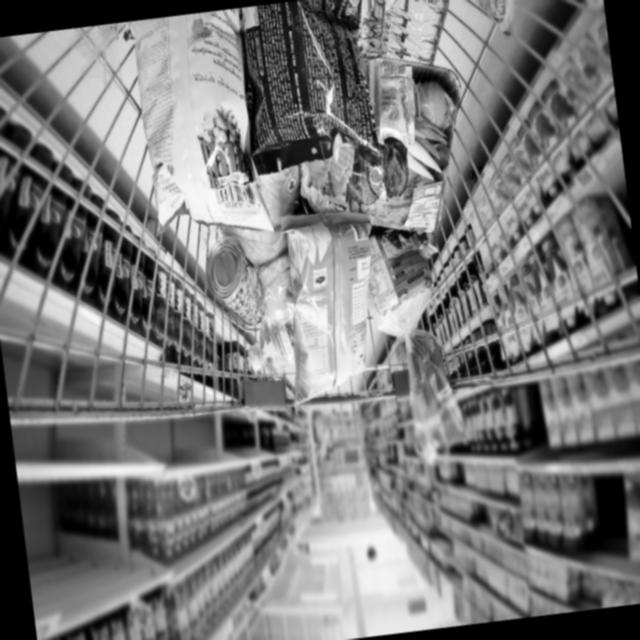banh mi: (353, 223, 472, 440)
dau: (243, 314, 300, 386)
